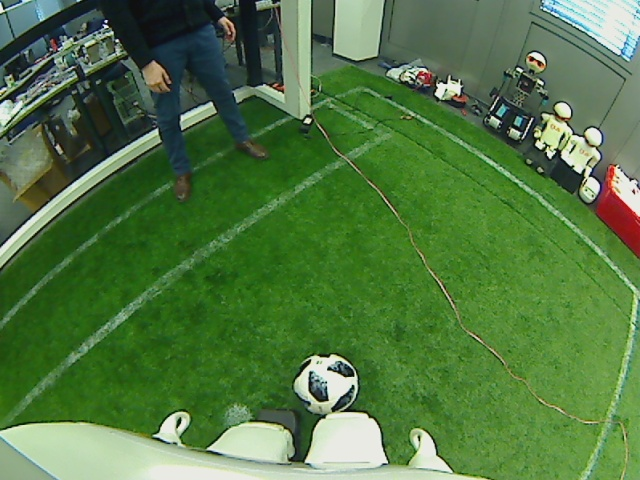ball: (290, 351, 360, 415)
